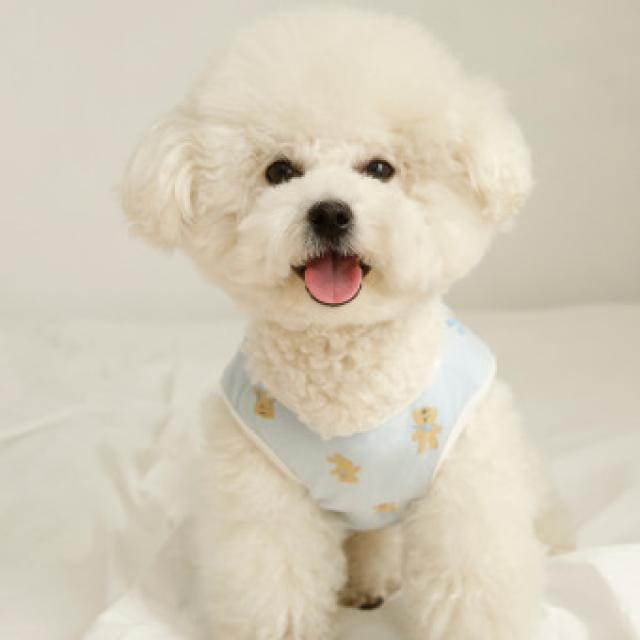cloth: (221, 316, 495, 530)
